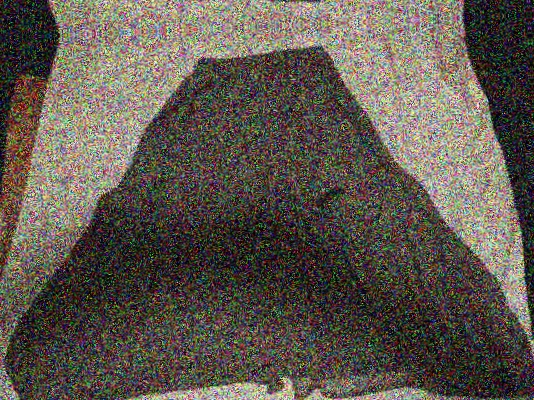Dress: (0, 33, 514, 400), (0, 0, 497, 21)
